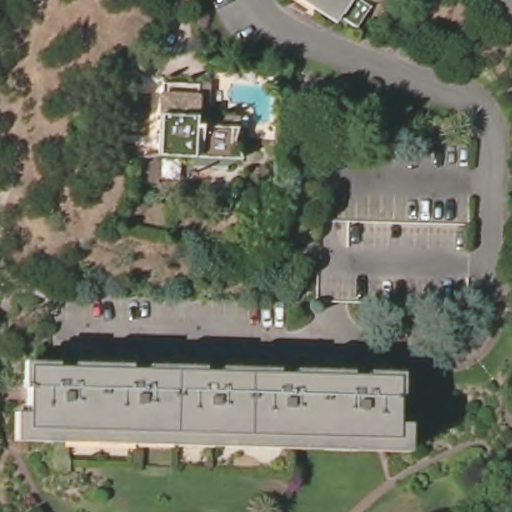pool: (217, 75, 277, 129)
